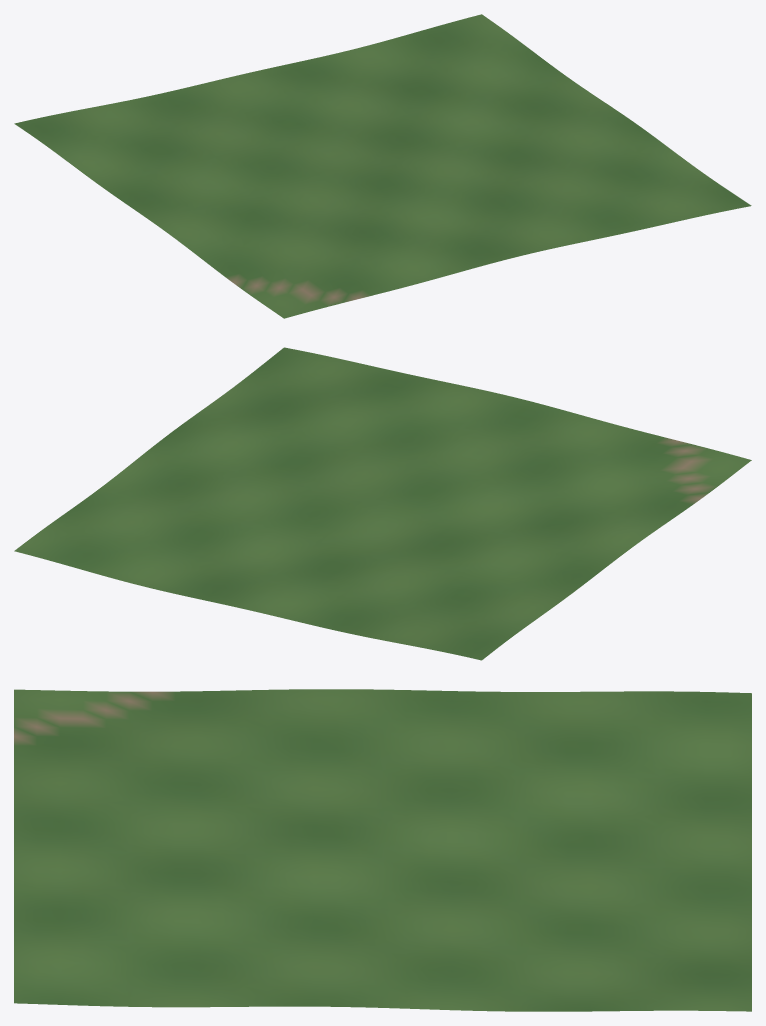
File: chunk_2_1.glb
3 views of the same model, one above another, from view 1: azimuth 30°, elevation 25°; view 2: azimuth 150°, elevation 25°; view 3: azimuth 270°, elevation 25° (orthographic). The views are drawn at different scales.
Size of the model in its own units: 512 by 17 by 512.
